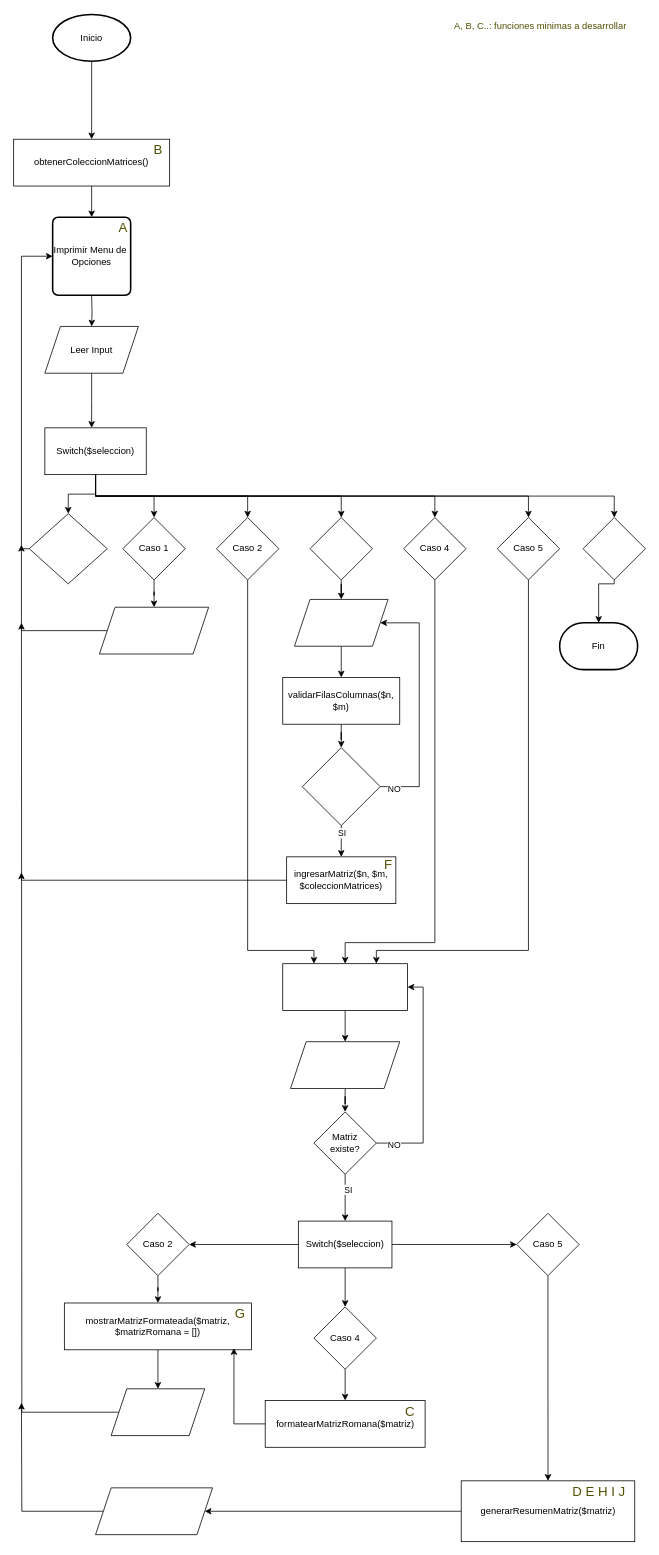
The diagram is 659 pixels wide and 1555 high, and some of its shapes have lost their labels. Here are the shapes that lost their labels. From the top down, the centre of each, then its label:
point 67,548: Caso Default
point 340,548: Caso 3
point 613,548: Caso 6
point 154,630: echo de count de matrices[]
point 341,622: Leer Input NxM
point 340,786: N y M son validos?
point 345,986: buscarMatriz($seleccion, $coleccionMatrices)
point 345,1064: Leer numero de matriz a mostrar
point 157,1412: Imprimir Matriz Formateada
point 154,1511: Imprimir Resumen de Matriz
